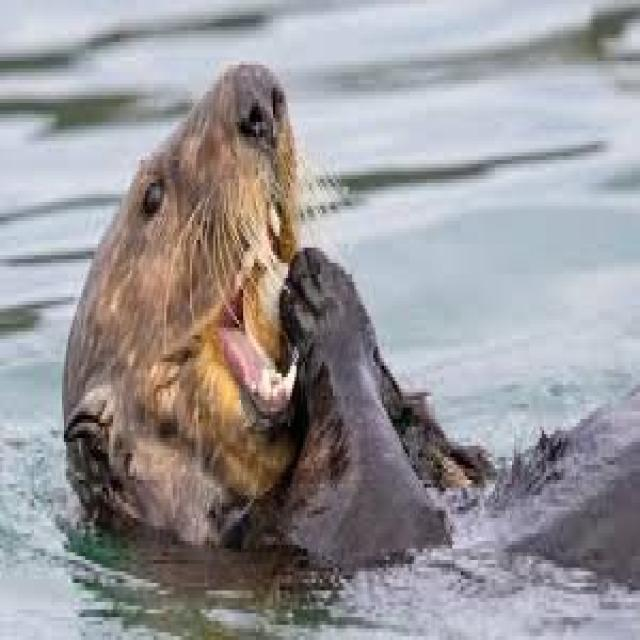Otter: (55, 47, 320, 566)
